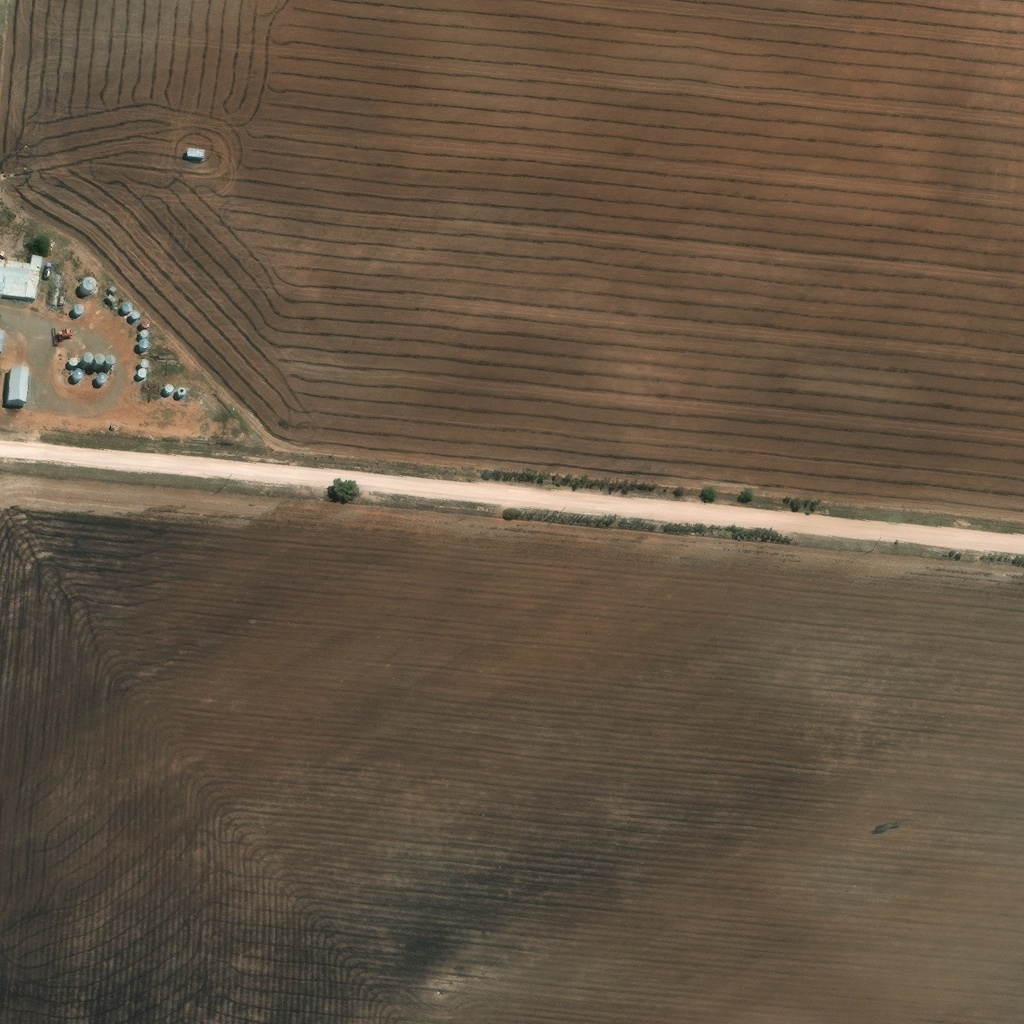0 no-damage: (0, 252, 44, 297), (6, 365, 29, 403), (80, 277, 97, 293), (95, 371, 109, 383), (72, 304, 85, 315), (121, 300, 133, 311), (81, 355, 93, 366), (72, 368, 84, 379), (137, 339, 149, 349), (138, 328, 149, 338), (105, 357, 115, 368), (130, 309, 140, 319), (137, 367, 147, 377), (164, 382, 174, 392), (176, 385, 186, 395), (93, 356, 103, 366), (140, 359, 150, 368), (68, 355, 78, 364), (108, 284, 117, 292)
1 minor-damage: (140, 316, 150, 327)
4 un-classified: (59, 413, 77, 424), (111, 318, 124, 329), (133, 389, 146, 400), (130, 376, 142, 387), (84, 369, 95, 379), (106, 292, 118, 301), (190, 396, 199, 404)
